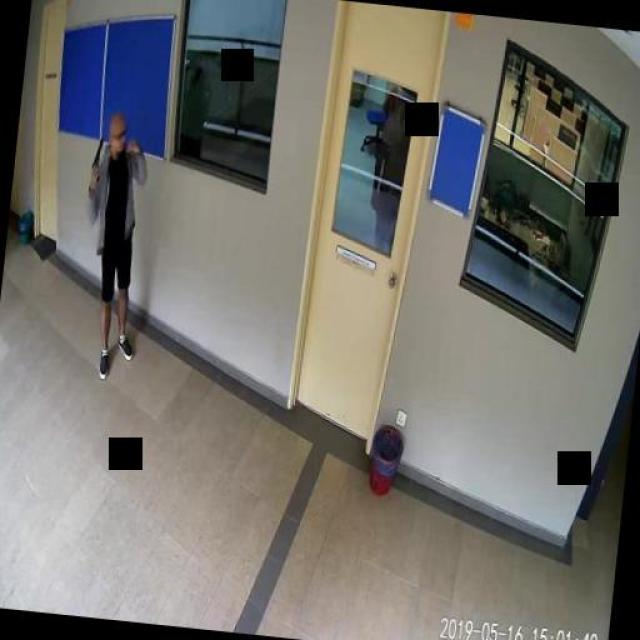gun: (89, 136, 101, 178)
